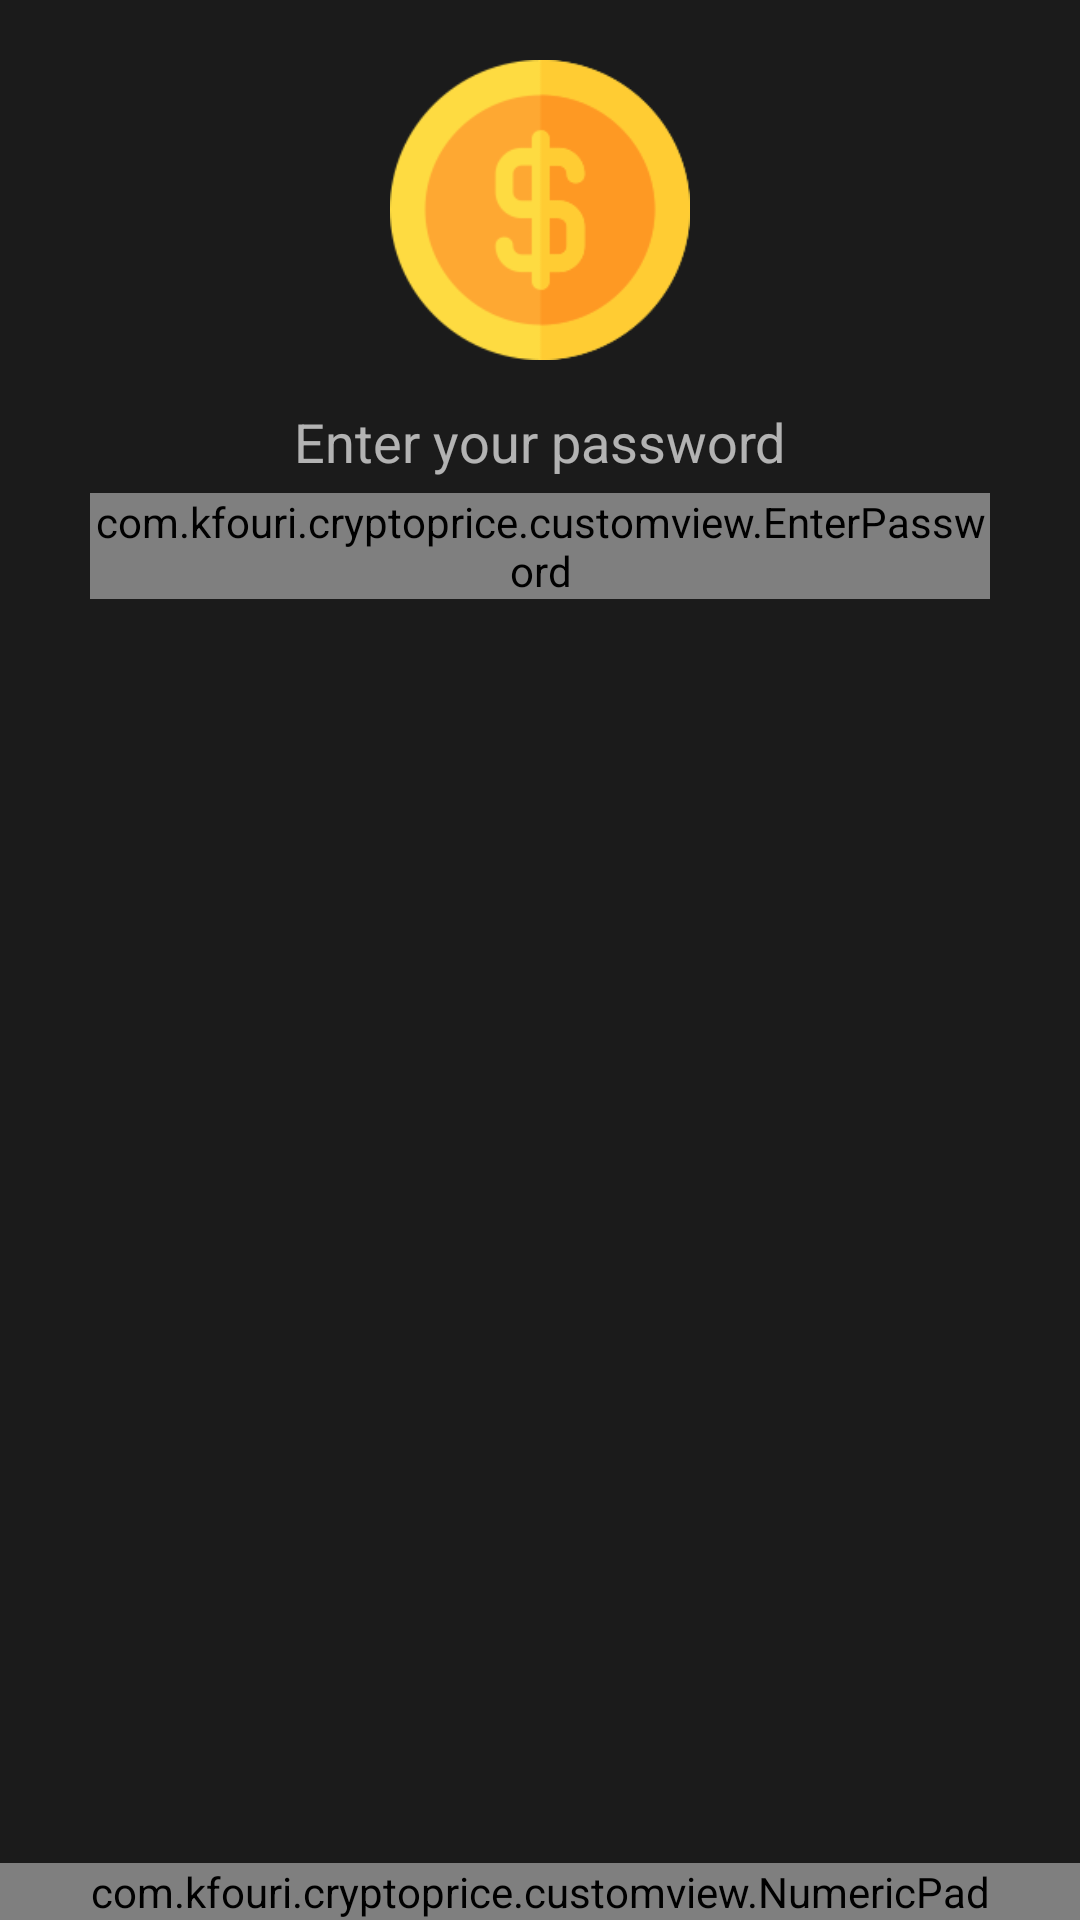

Point at icon controls on the screen. Image size 1080px×1920px, points as [x,y].
coin: [540,210]
